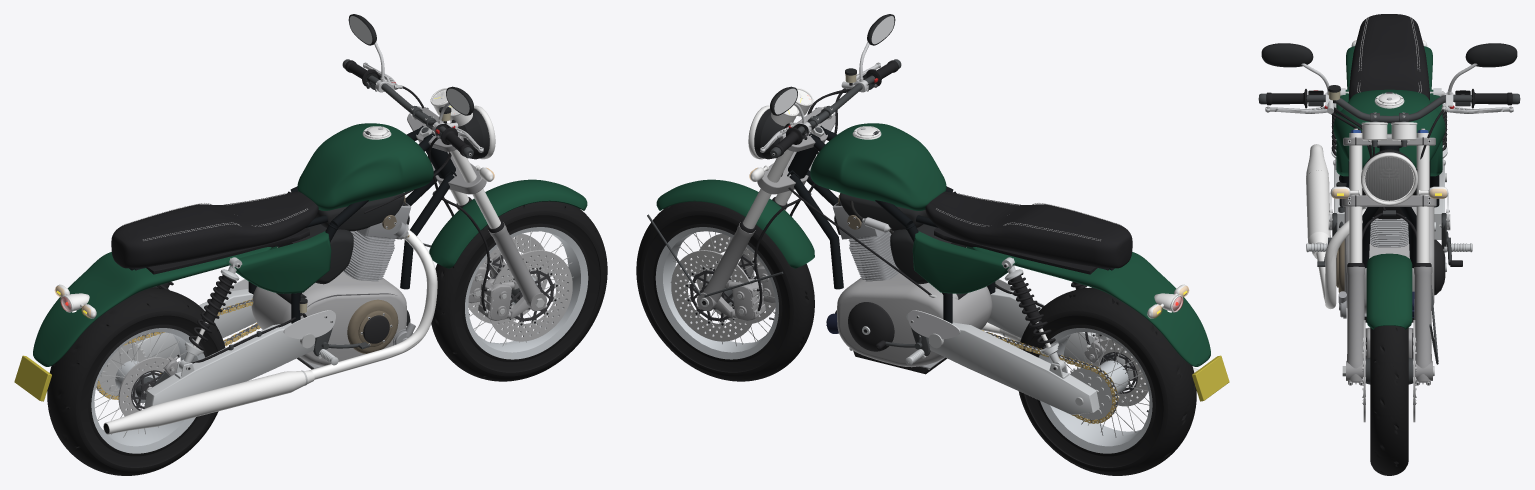
File: hartwell_classic.glb
3 views of the same model, side by side, from view 1: azimuth 30°, elevation 25°; view 2: azimuth 150°, elevation 25°; view 3: azimuth 270°, elevation 25° (orthographic). The views are drawn at different scales.
Visible parts, largest first — view 1: hartwell_classic; view 2: hartwell_classic; view 3: hartwell_classic.
Part boxes in pixels (x1,y1,x2,y2): hartwell_classic: (14, 14, 607, 475); hartwell_classic: (636, 14, 1229, 475); hartwell_classic: (1258, 14, 1520, 475).
Size of the model in its own units: 2.19 by 1.27 by 0.8198.
